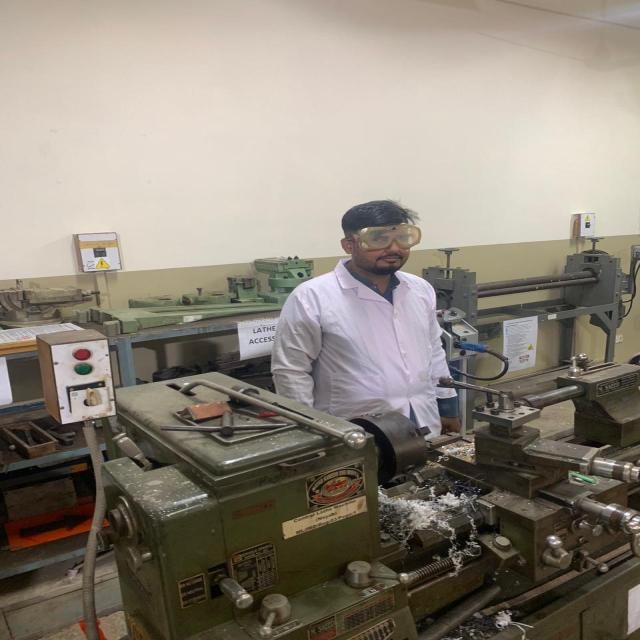googles: (353, 222, 425, 252)
labcoat: (269, 254, 455, 447)
